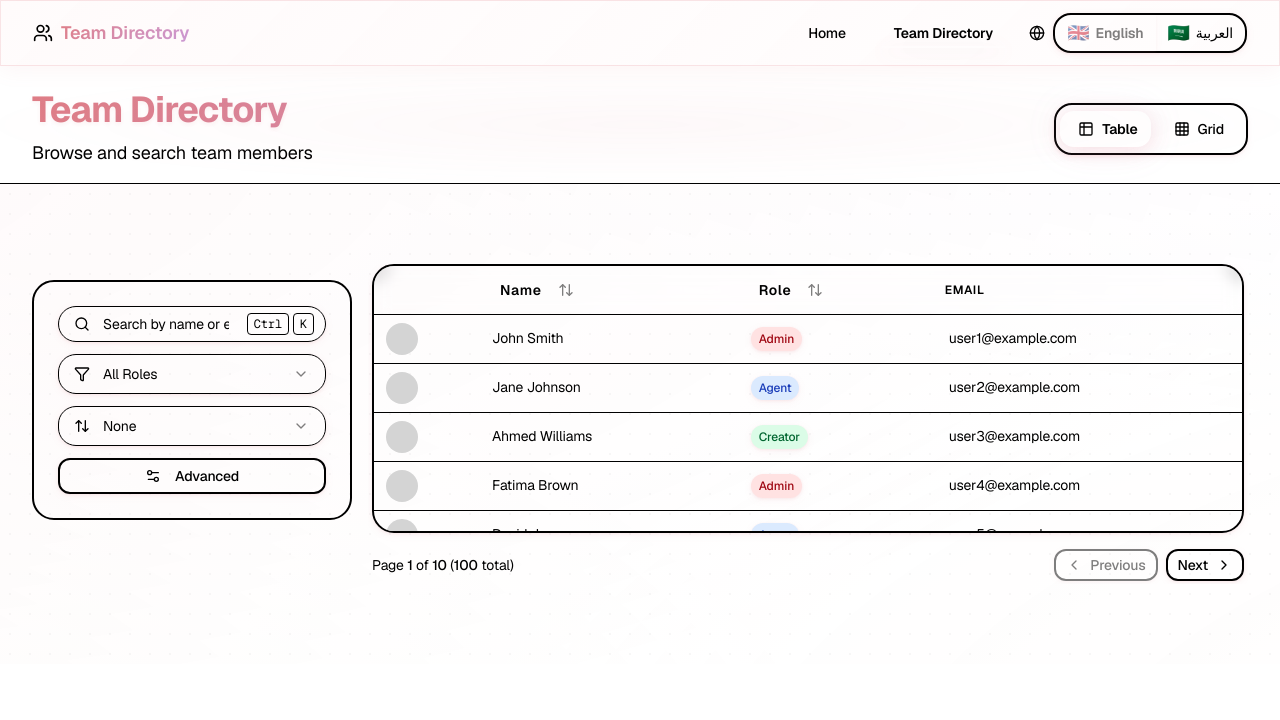
Test: Team Directory - Full User Journey › should toggle between table and grid views
Note: Switch to grid view
Click the tab "Grid".
click(1199, 129)  # box [1158, 111, 1240, 147]
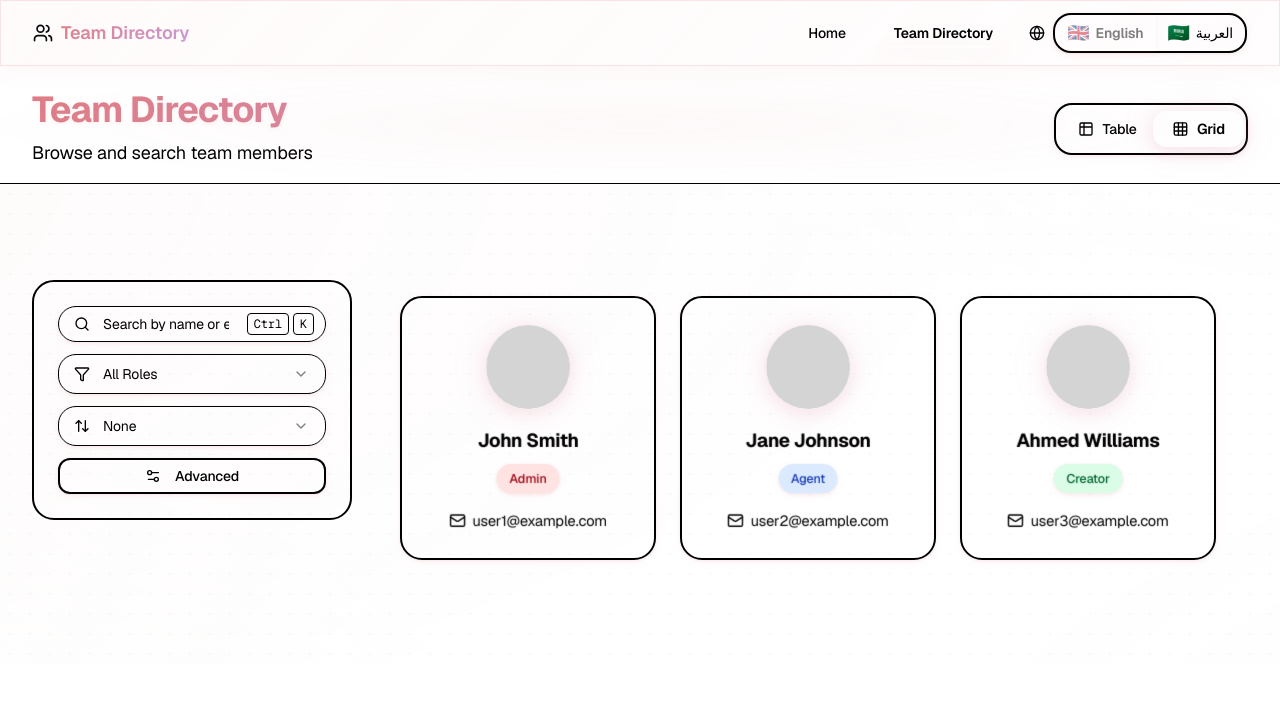
Note: Switch back to table view
Click the tab "Table".
click(1108, 129)  # box [1063, 111, 1153, 147]
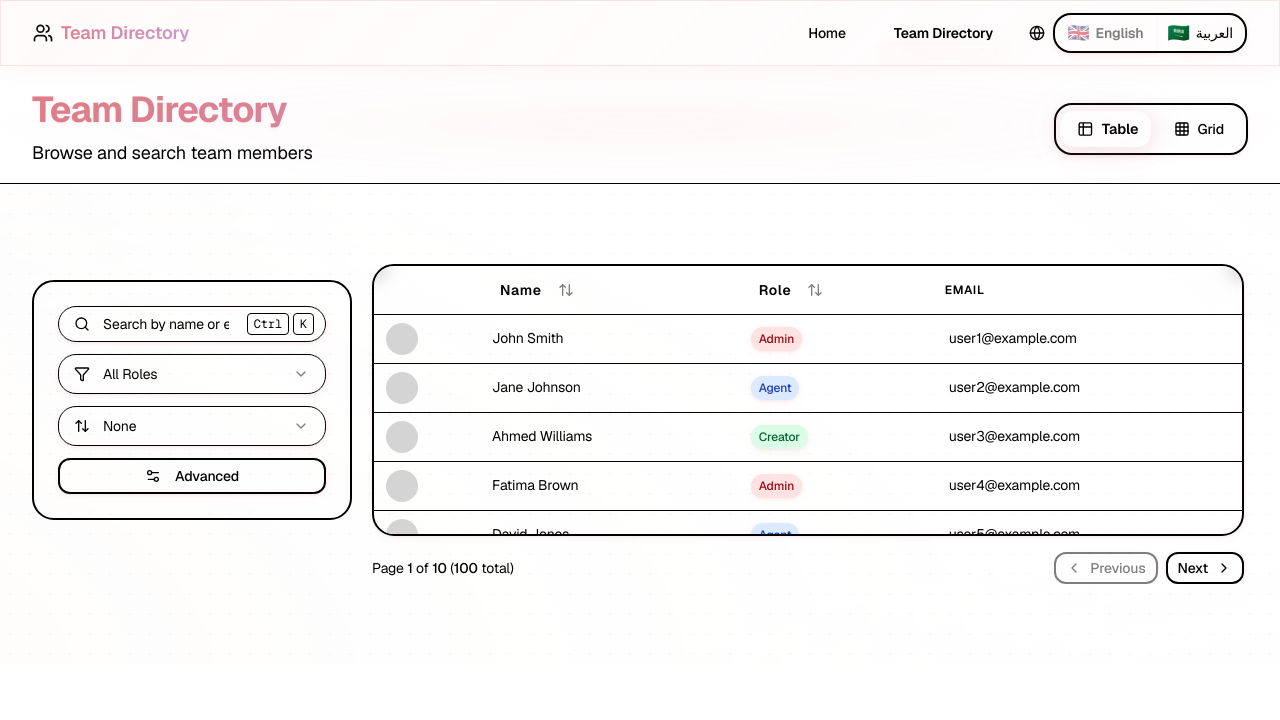
Result: the button "Name" is shown at [488, 280, 586, 300]
Result: the number of rows is more than 0
